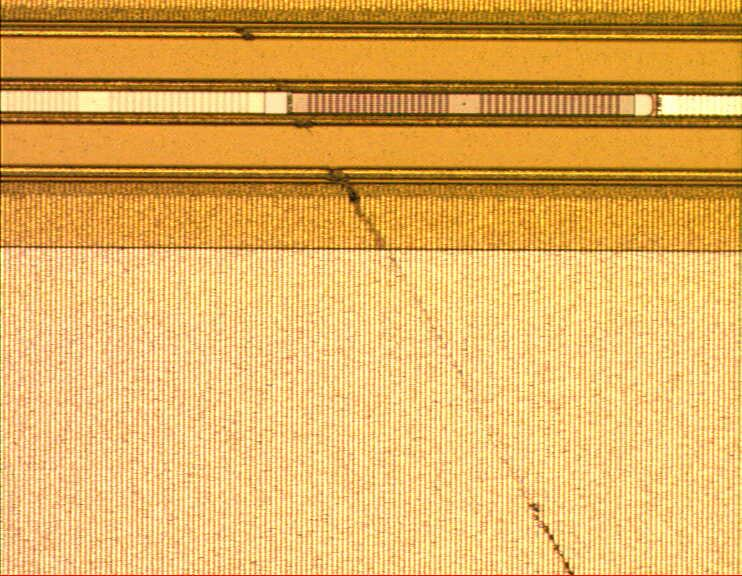SCRATCH: (228, 21, 588, 574)
